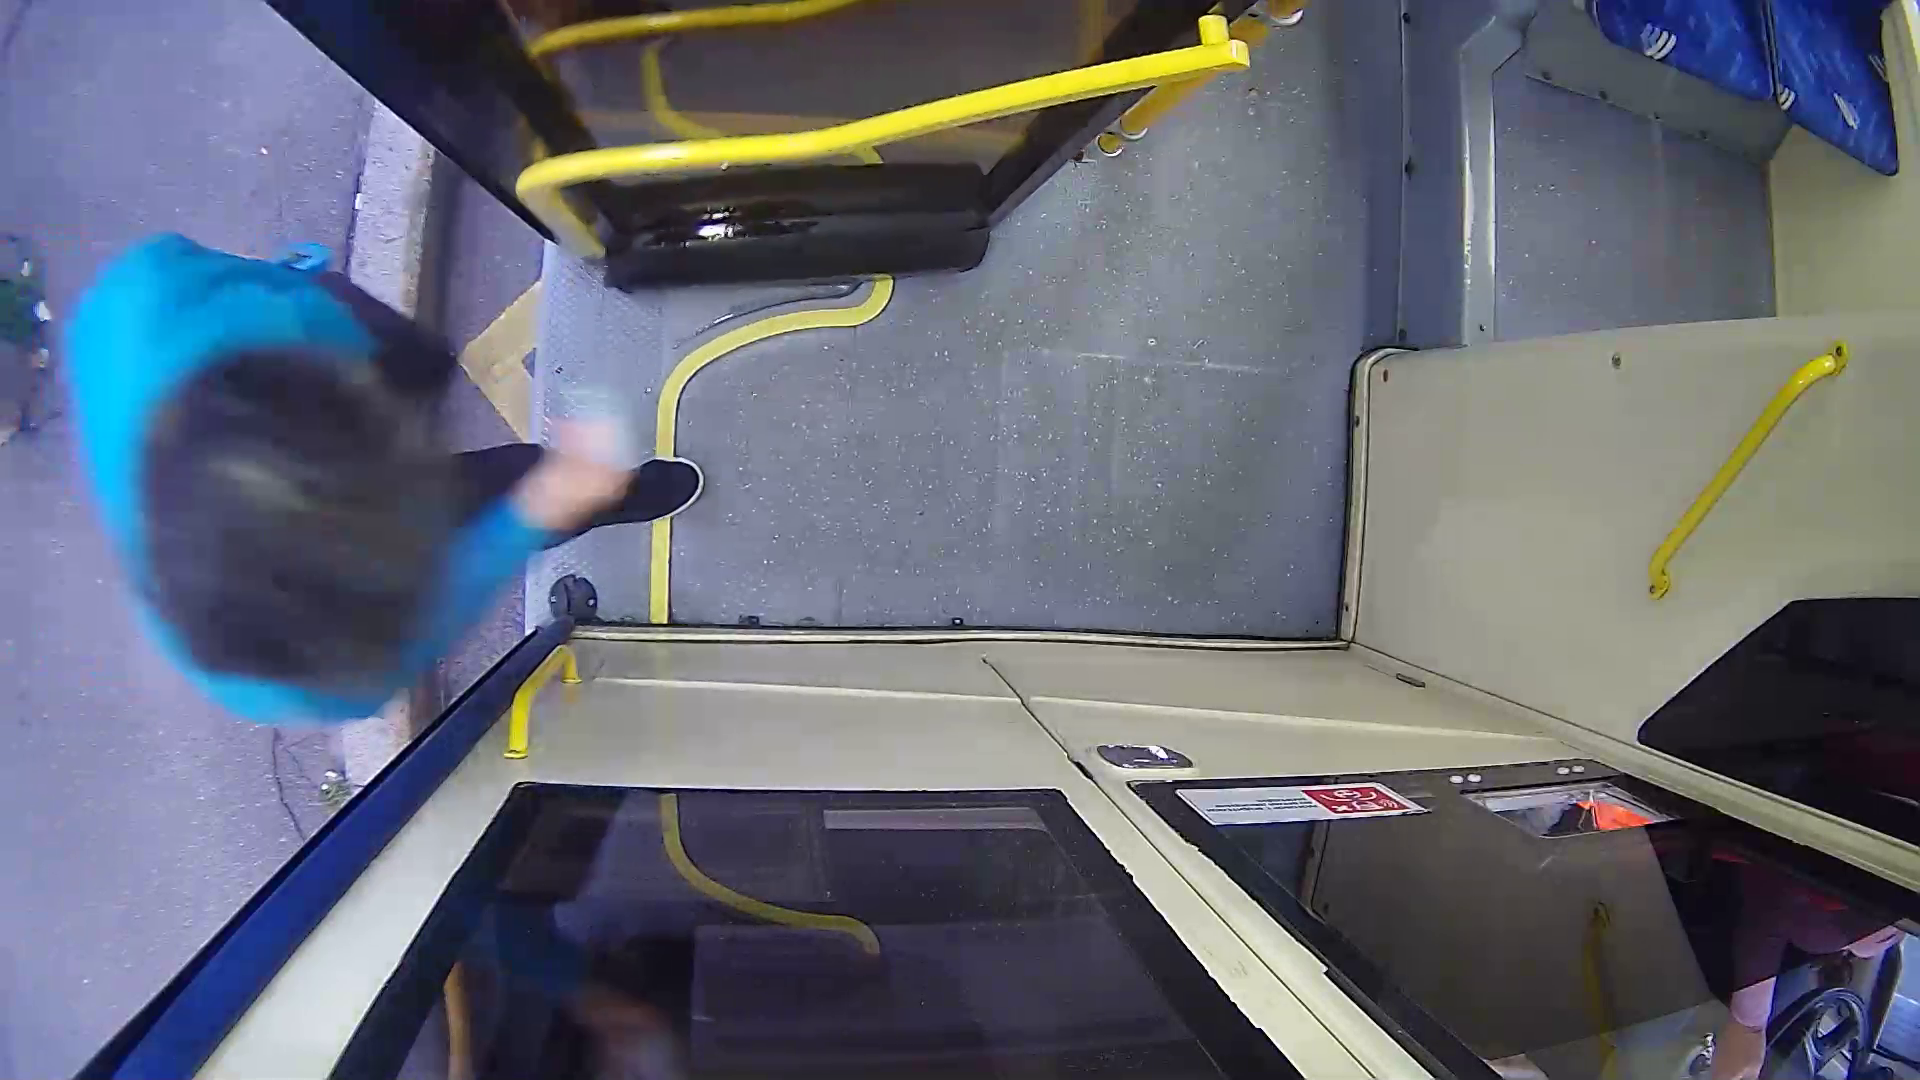person: (47, 218, 897, 742)
